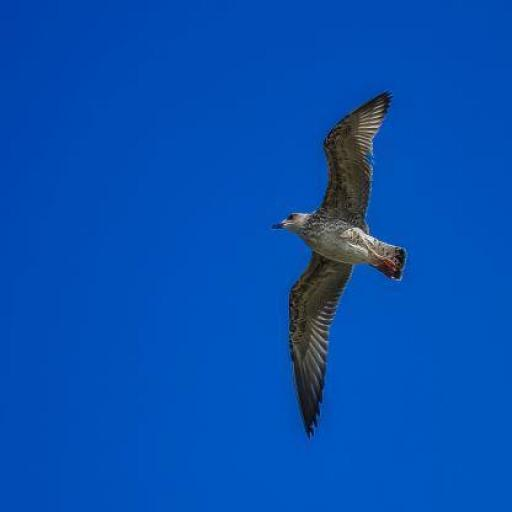bird: (274, 92, 408, 444)
